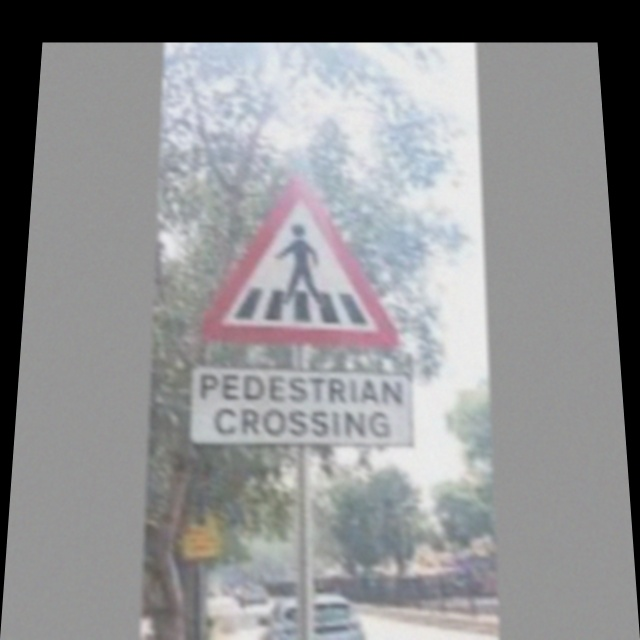Pedestrian_Crossing: (205, 171, 407, 343)
